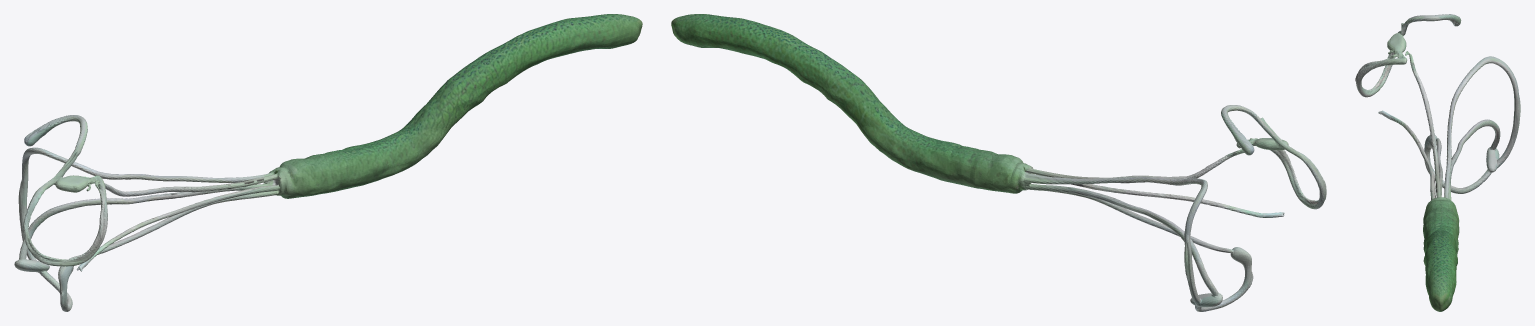
The model's file is elicobacter-pylori.glb.
3 views of the same model, side by side, from view 1: azimuth 30°, elevation 25°; view 2: azimuth 150°, elevation 25°; view 3: azimuth 270°, elevation 25° (orthographic). The views are drawn at different scales.
Visible parts, largest first — view 1: tripo_node_c2639a7c-35b8-4890-88f7-7af75e2a7a90; view 2: tripo_node_c2639a7c-35b8-4890-88f7-7af75e2a7a90; view 3: tripo_node_c2639a7c-35b8-4890-88f7-7af75e2a7a90.
Part boxes in pixels (x1,y1,x2,y2): tripo_node_c2639a7c-35b8-4890-88f7-7af75e2a7a90: (14,14,642,311); tripo_node_c2639a7c-35b8-4890-88f7-7af75e2a7a90: (671,14,1326,311); tripo_node_c2639a7c-35b8-4890-88f7-7af75e2a7a90: (1355,14,1520,311).
Bounding box in the file's own units: 1 × 0.2955 × 0.2507.
1 material, 1 textured.
